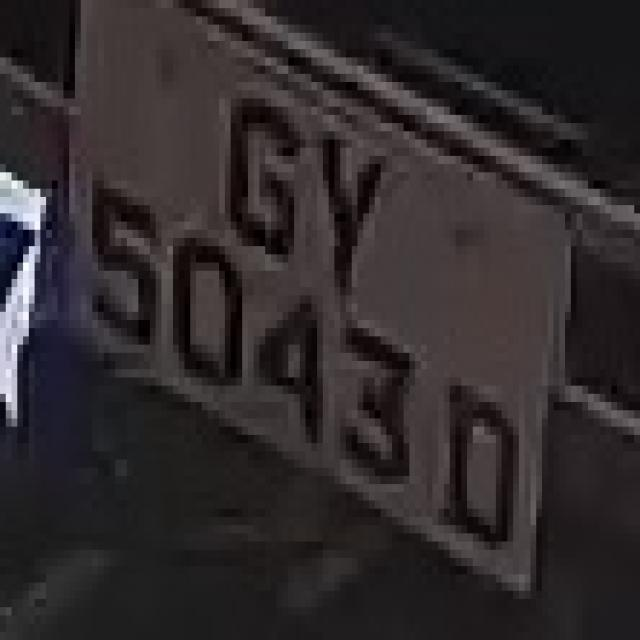0: (167, 197, 254, 394)
3: (346, 271, 427, 508)
4: (242, 246, 335, 460)
5: (81, 156, 173, 377)
D: (432, 369, 519, 558)
G: (208, 74, 312, 271)
Y: (300, 82, 398, 295)
